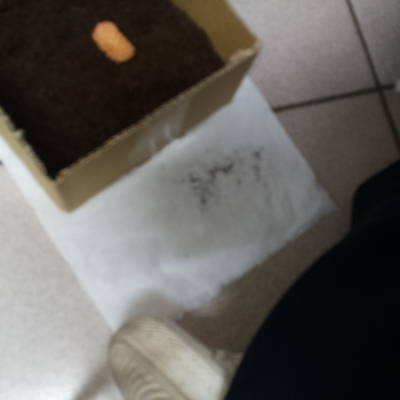eggs: (85, 14, 143, 66)
